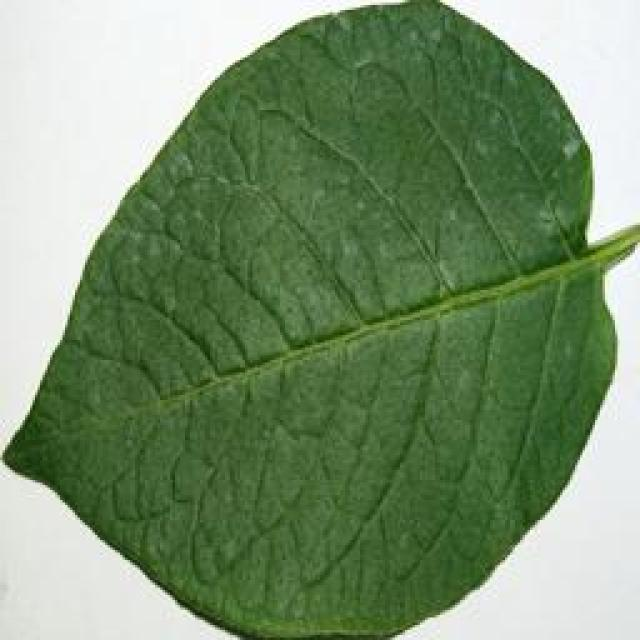Potato_Healthy: (14, 4, 629, 626)
